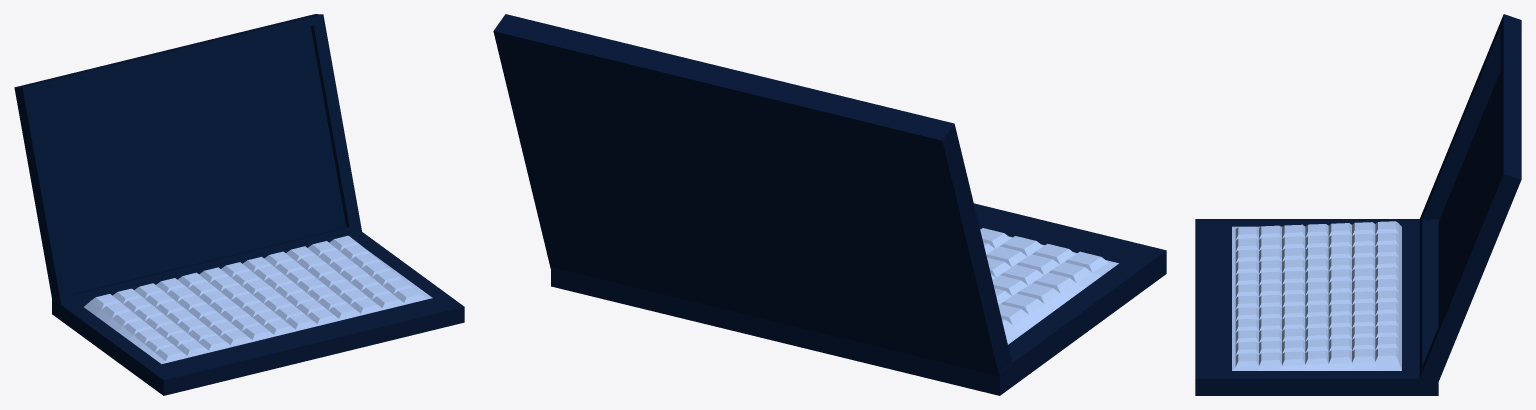
The model's file is laptop.glb.
The picture shows the model from 3 angles, left to right: view 1: azimuth 30°, elevation 25°; view 2: azimuth 150°, elevation 25°; view 3: azimuth 270°, elevation 25°; orthographic projection. The views are drawn at different scales.
Parts seen in each view (by area): view 1: LaptopCover, LaptopBase; view 2: LaptopCover, LaptopBase; view 3: LaptopBase, LaptopCover.
Boxes of the visible parts, left/top/right/bottom form: LaptopCover: left=14, top=14, right=361, bottom=304; LaptopBase: left=52, top=226, right=464, bottom=395; LaptopCover: left=493, top=14, right=1011, bottom=375; LaptopBase: left=551, top=203, right=1166, bottom=395; LaptopBase: left=1195, top=219, right=1438, bottom=395; LaptopCover: left=1419, top=14, right=1521, bottom=386.
Size of the model in its own units: 1.76 by 1.14 by 1.52.
1 material, 1 textured.
